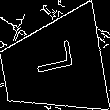L_W: (28, 46, 77, 86)
